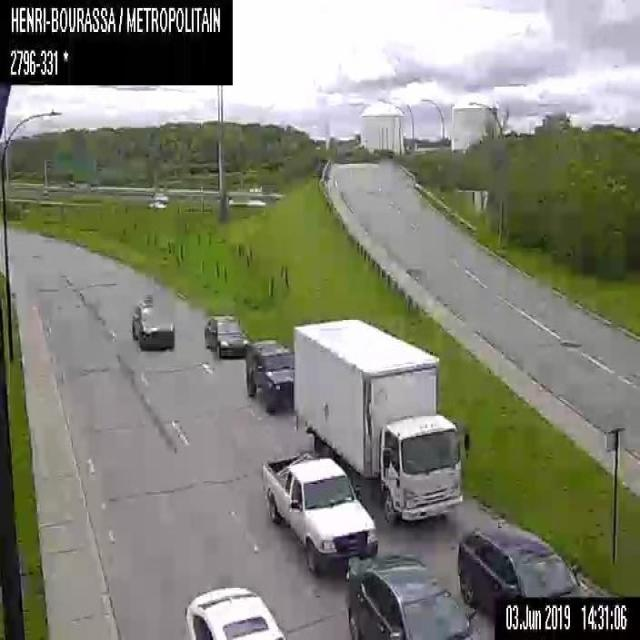vehicle: (292, 318, 463, 524), (261, 451, 377, 576), (457, 522, 587, 617), (344, 553, 481, 639), (184, 581, 286, 639), (246, 337, 294, 412), (128, 292, 175, 352), (204, 314, 248, 357)
